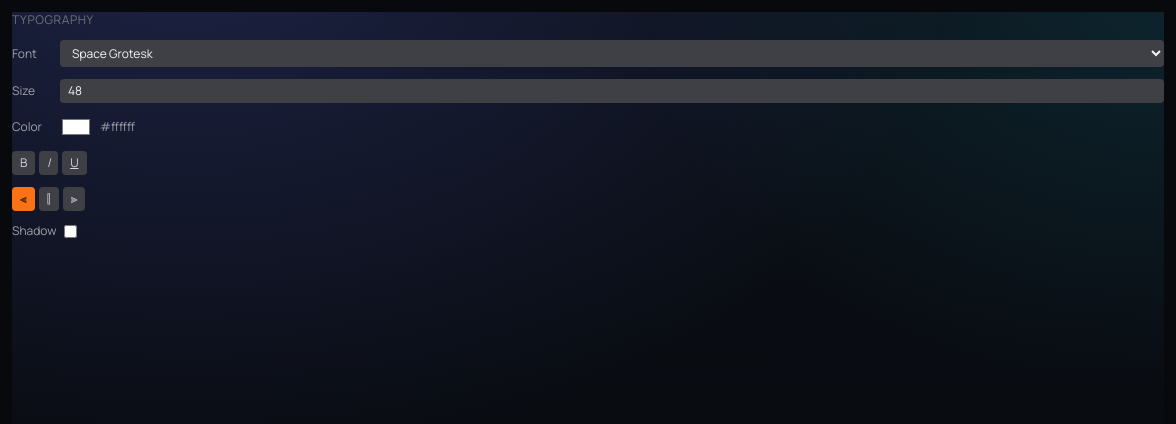
Scenario: TypographyControls › color change updates store
Type "#ff0000" into the colour field with test id "typo-color" at (76, 127), box [60,115,92,139]
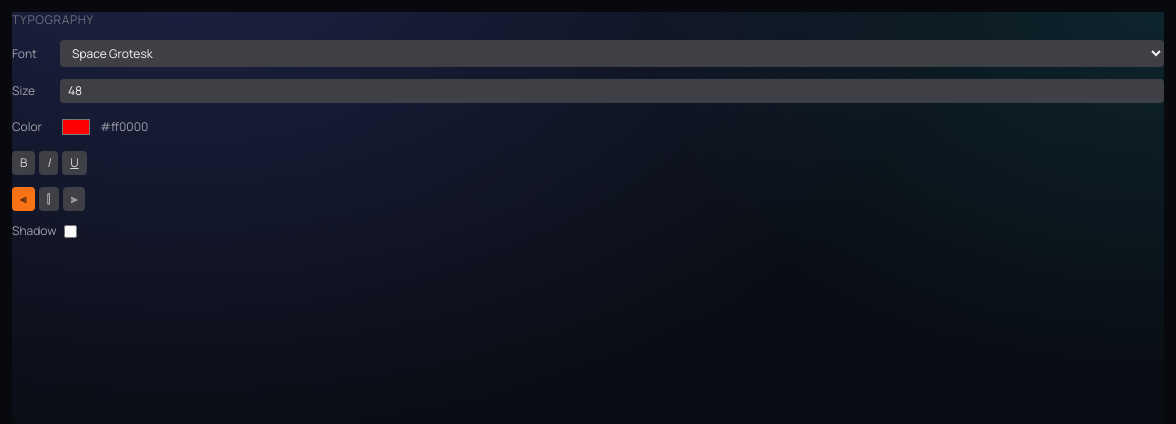
Result: the text "#ff0000" is shown at [100,119,148,135]
